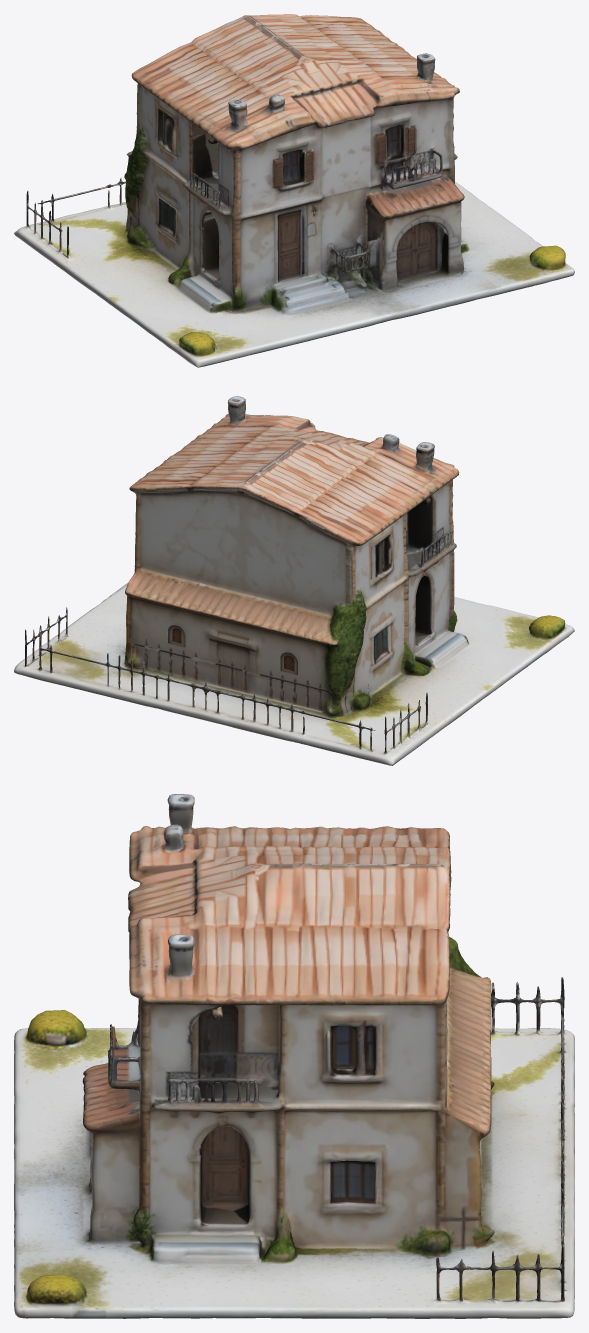
The model's file is stone_building_lev2.glb.
The picture shows the model from 3 angles, top to bottom: view 1: azimuth 30°, elevation 25°; view 2: azimuth 150°, elevation 25°; view 3: azimuth 270°, elevation 25°; orthographic projection. The views are drawn at different scales.
Parts seen in each view (by area): view 1: model_0.005; view 2: model_0.005; view 3: model_0.005.
Boxes of the visible parts, x1=… form: model_0.005: x1=14, y1=14, x2=574, y2=367; model_0.005: x1=14, y1=396, x2=574, y2=765; model_0.005: x1=14, y1=794, x2=574, y2=1318.
Size of the model in its own units: 81.83 by 42.28 by 68.44.
1 material, 1 textured.
